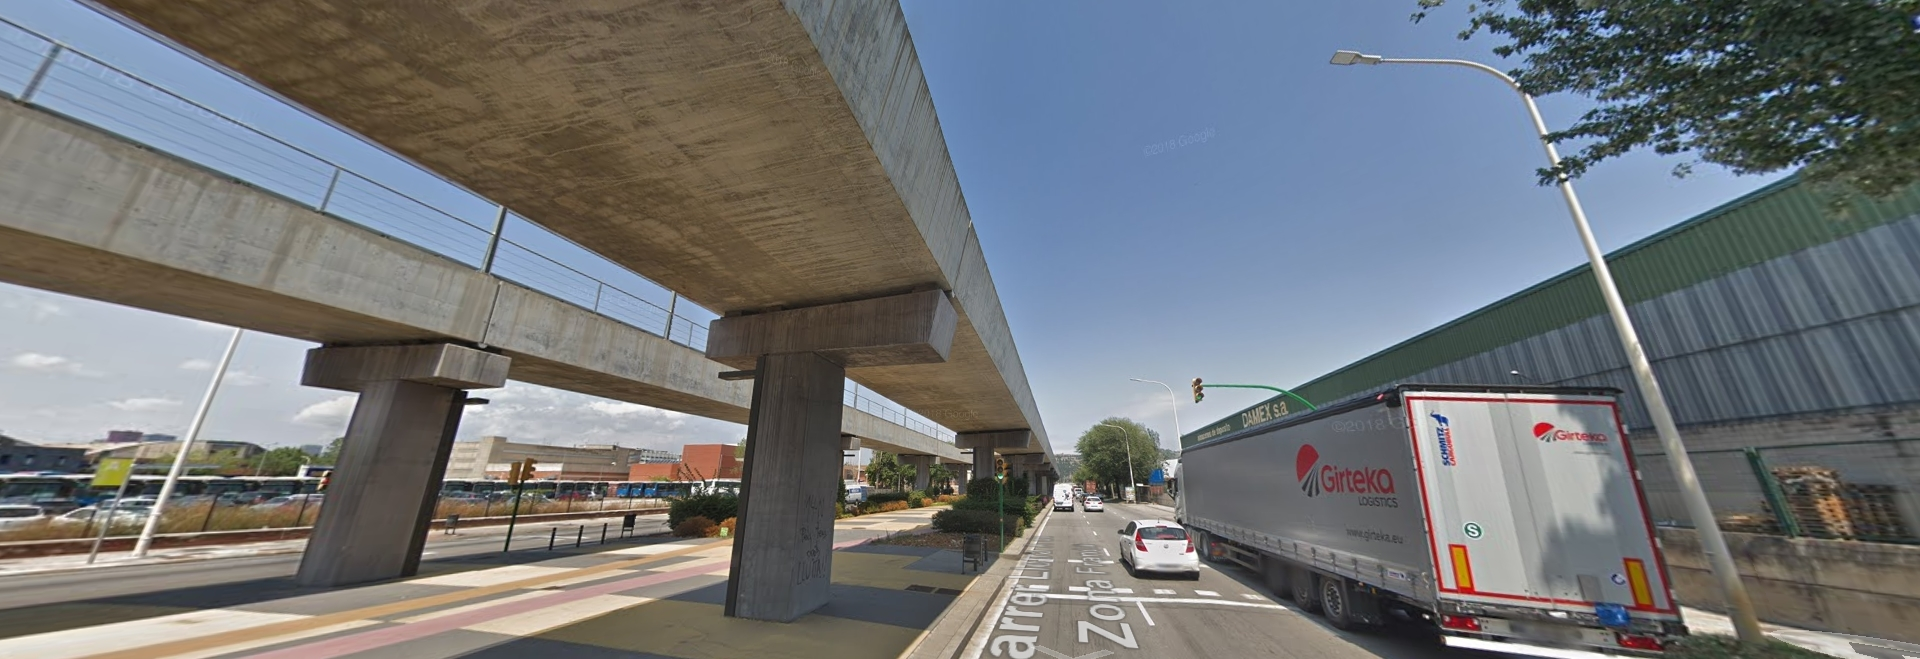bridge: (1, 1, 1082, 499)
